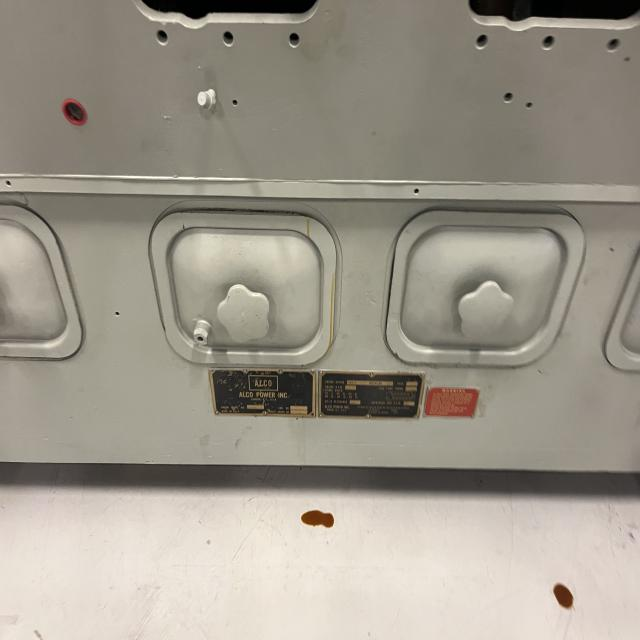Oil Leak: (298, 215, 345, 366), (551, 580, 576, 612), (300, 508, 335, 529)
